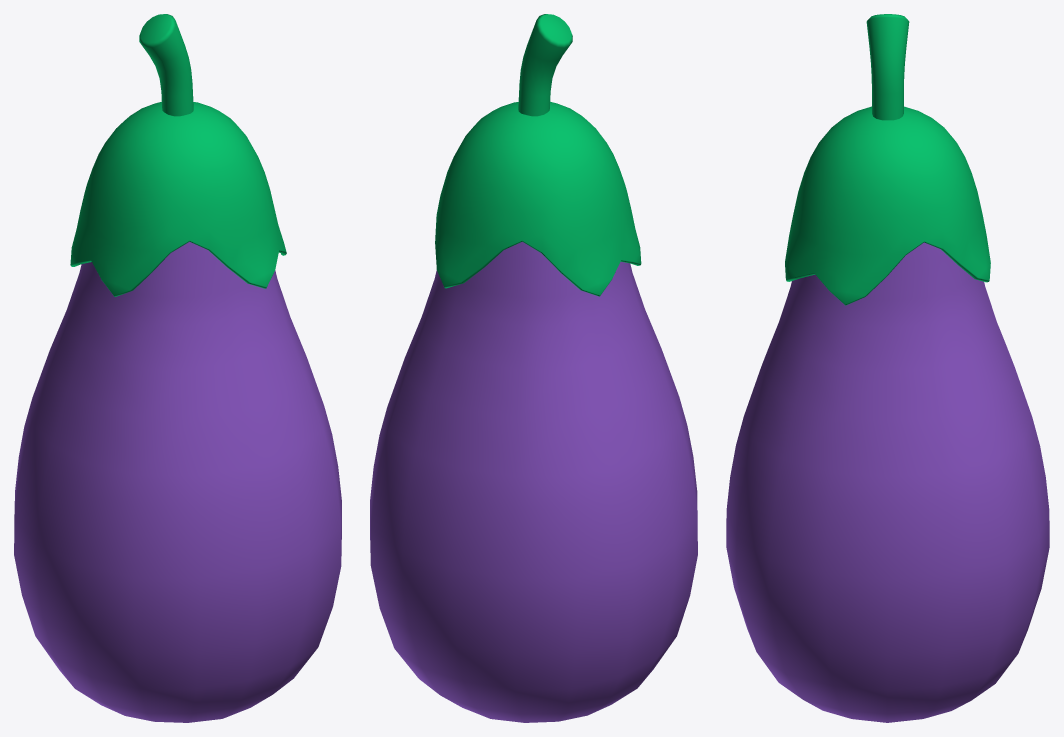
Rendered from Store_19_Eggplant_1.glb.
3 renders of one model, left to right at view 1: azimuth 30°, elevation 25°; view 2: azimuth 150°, elevation 25°; view 3: azimuth 270°, elevation 25°, orthographic.
Parts seen in each view (by area): view 1: Store_19_Eggplant_1; view 2: Store_19_Eggplant_1; view 3: Store_19_Eggplant_1.
Boxes of the visible parts, x1,y1,x2,y2 form: Store_19_Eggplant_1: [14, 14, 341, 722]; Store_19_Eggplant_1: [370, 14, 697, 722]; Store_19_Eggplant_1: [726, 14, 1049, 722].
Size of the model in its own units: 0.2268 by 0.5317 by 0.227.
Materials: 1 (1 with a texture image).
